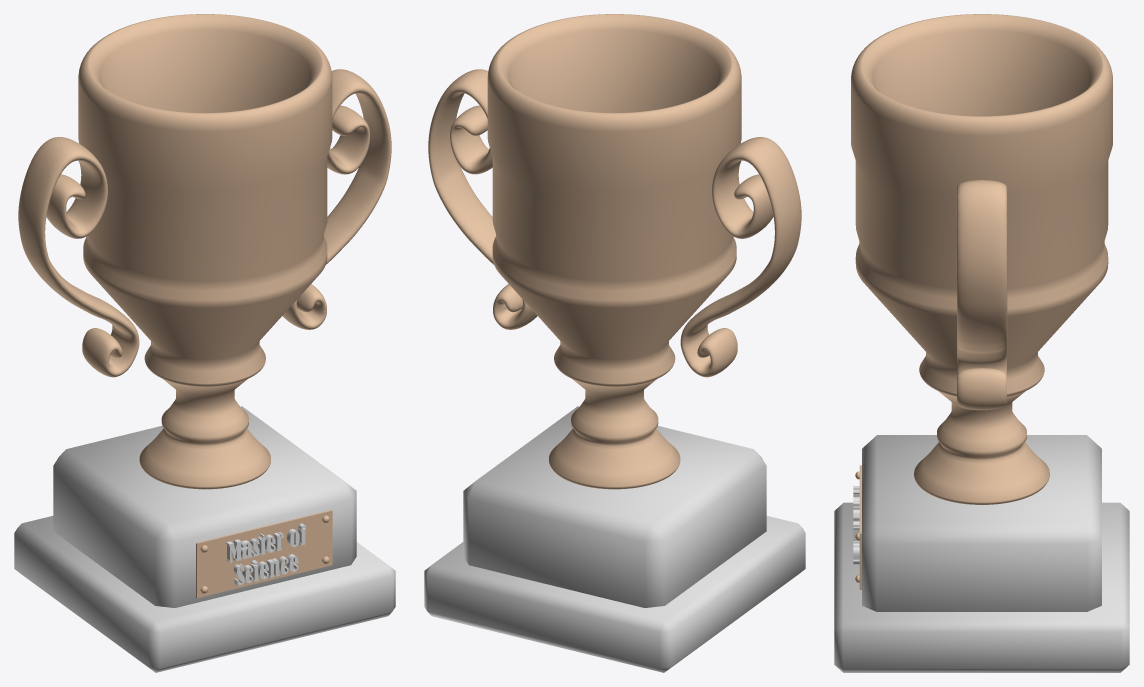
Rendered from pokal 2.fbx.
The picture shows the model from 3 angles, left to right: view 1: azimuth 30°, elevation 25°; view 2: azimuth 150°, elevation 25°; view 3: azimuth 270°, elevation 25°; orthographic projection. The views are drawn at different scales.
Parts seen in each view (by area): view 1: Cilindro, Würfel, Cubo_1, Cubo, Cubo_2_2, Cubo_2, Deckfläche_1, Extrudieren; view 2: Cilindro, Würfel, Cubo_1, Cubo, Cubo_2_2; view 3: Cilindro, Würfel, Cubo_1, Cubo_2_2, Extrudieren.
Part boxes in pixels (bbox=[...]): Cilindro: bbox=[78, 14, 332, 489]; Würfel: bbox=[53, 406, 356, 607]; Cubo_1: bbox=[14, 516, 395, 672]; Cubo: bbox=[18, 137, 139, 377]; Cubo_2_2: bbox=[282, 69, 391, 329]; Cubo_2: bbox=[196, 510, 332, 597]; Deckfläche_1: bbox=[229, 525, 305, 585]; Extrudieren: bbox=[226, 523, 305, 585]; Cilindro: bbox=[487, 14, 741, 489]; Würfel: bbox=[463, 406, 766, 607]; Cubo_1: bbox=[424, 516, 805, 672]; Cubo: bbox=[680, 137, 801, 377]; Cubo_2_2: bbox=[428, 69, 537, 329]; Cilindro: bbox=[851, 14, 1112, 504]; Würfel: bbox=[862, 435, 1101, 611]; Cubo_1: bbox=[834, 502, 1129, 672]; Cubo_2_2: bbox=[956, 180, 1007, 410]; Extrudieren: bbox=[853, 486, 859, 564].
Bounding box in the file's own units: 526 × 749 × 365.
